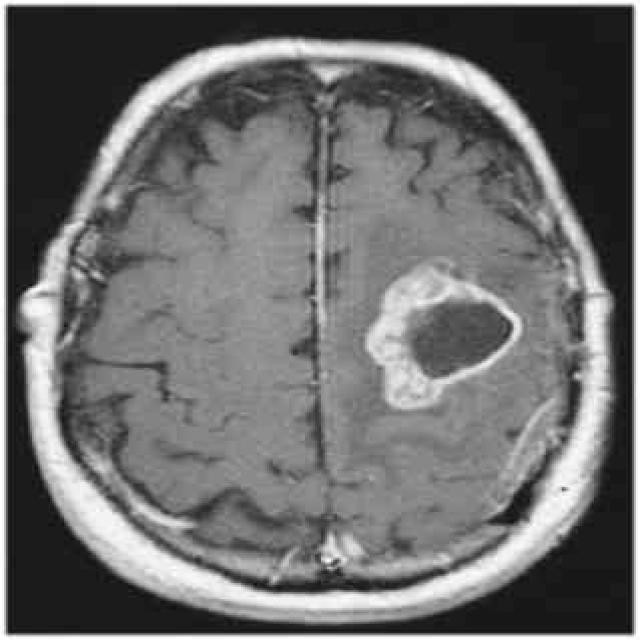glioma: (368, 263, 526, 414)
